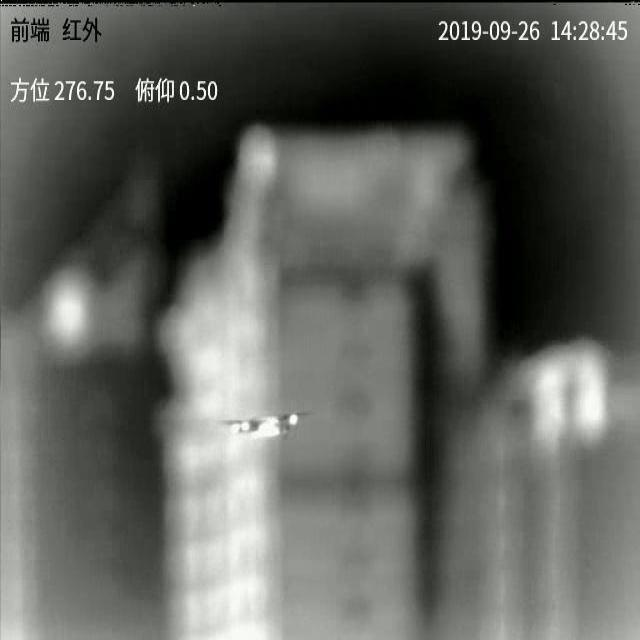drone: (213, 412, 313, 441)
